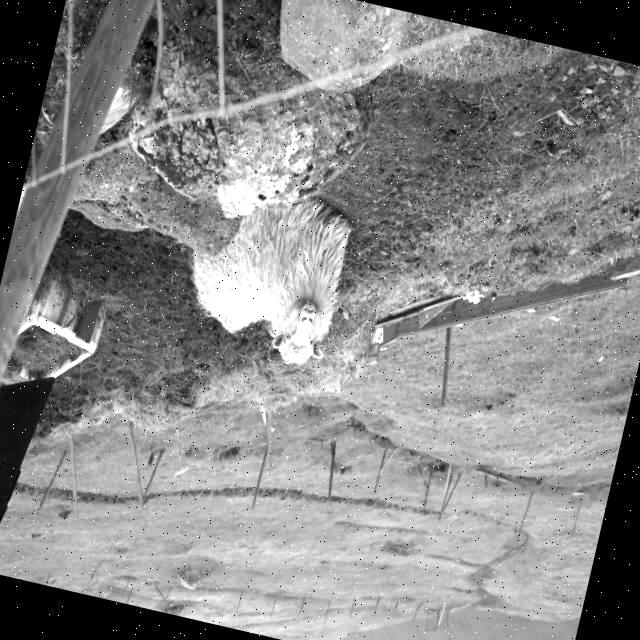sheep: (194, 201, 351, 365)
